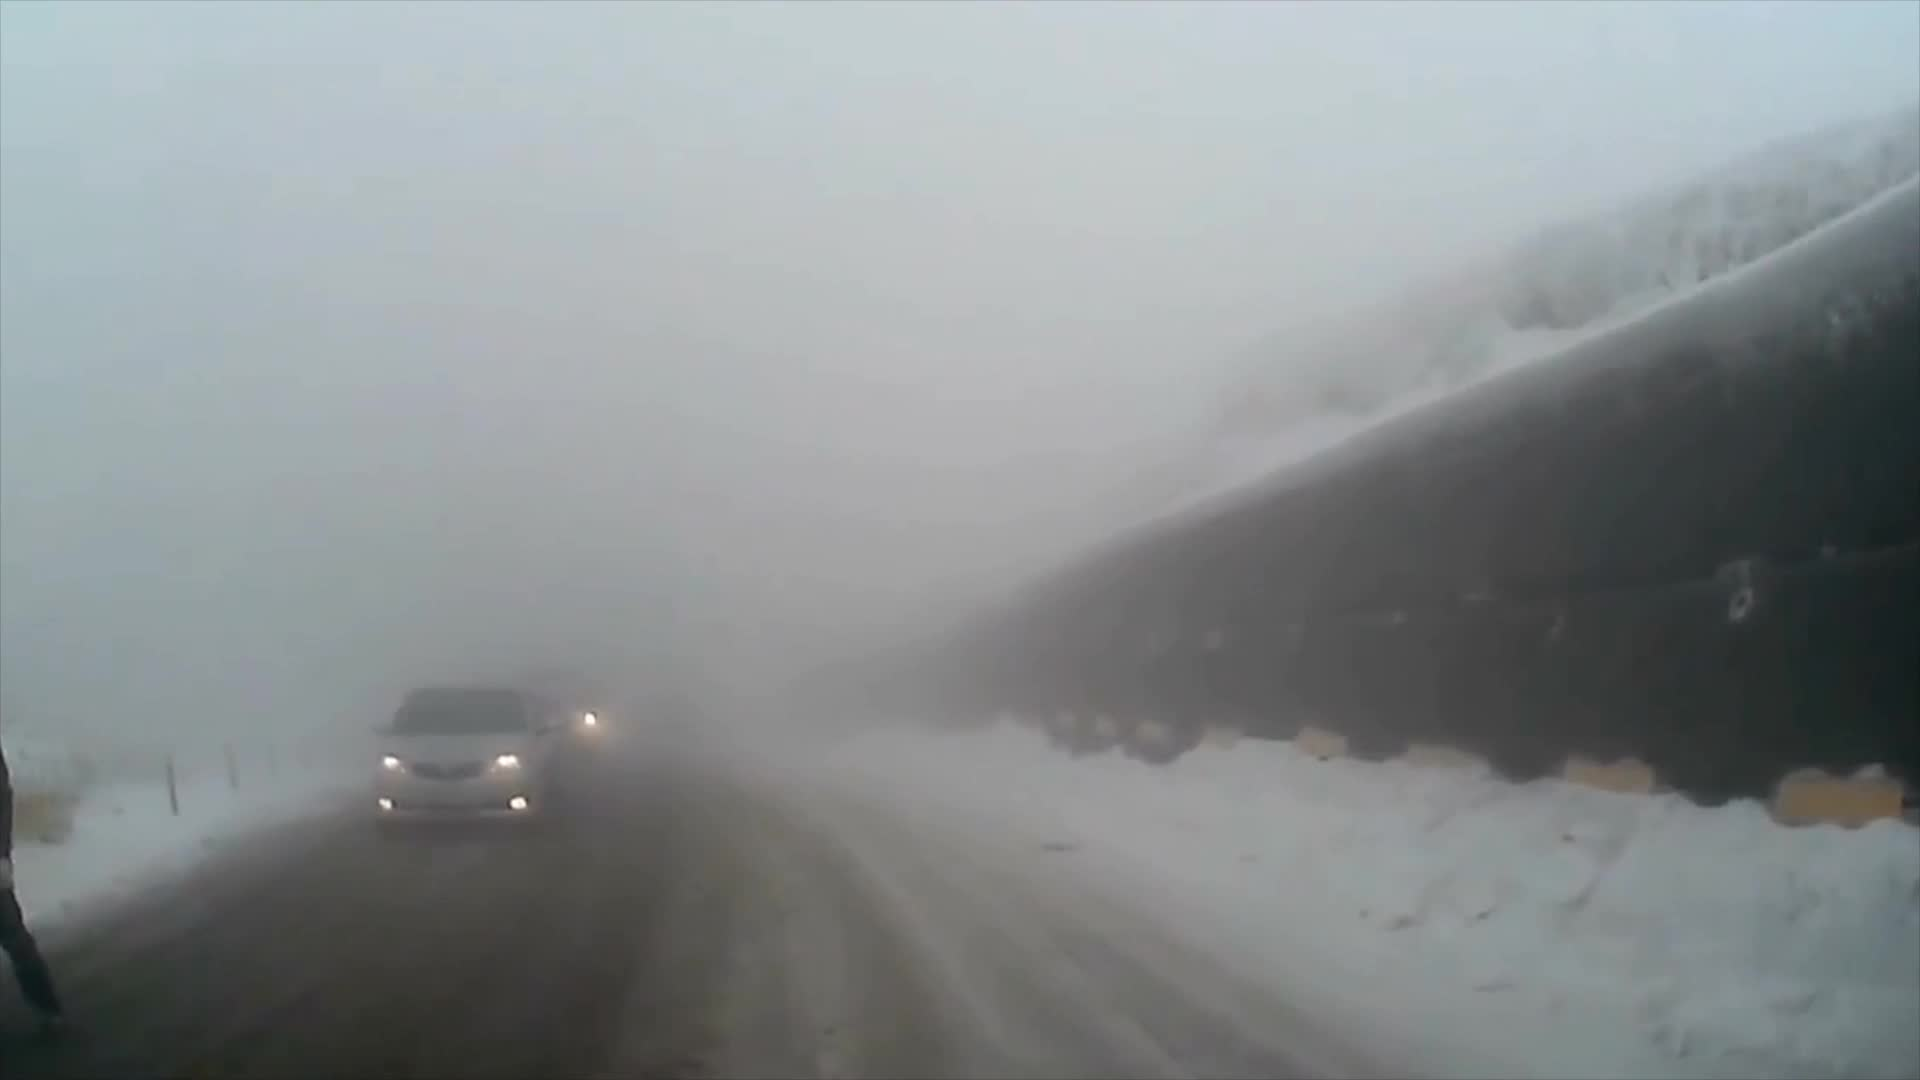pedestrian: (1, 683, 70, 1039)
vehicle: (364, 681, 561, 837)
